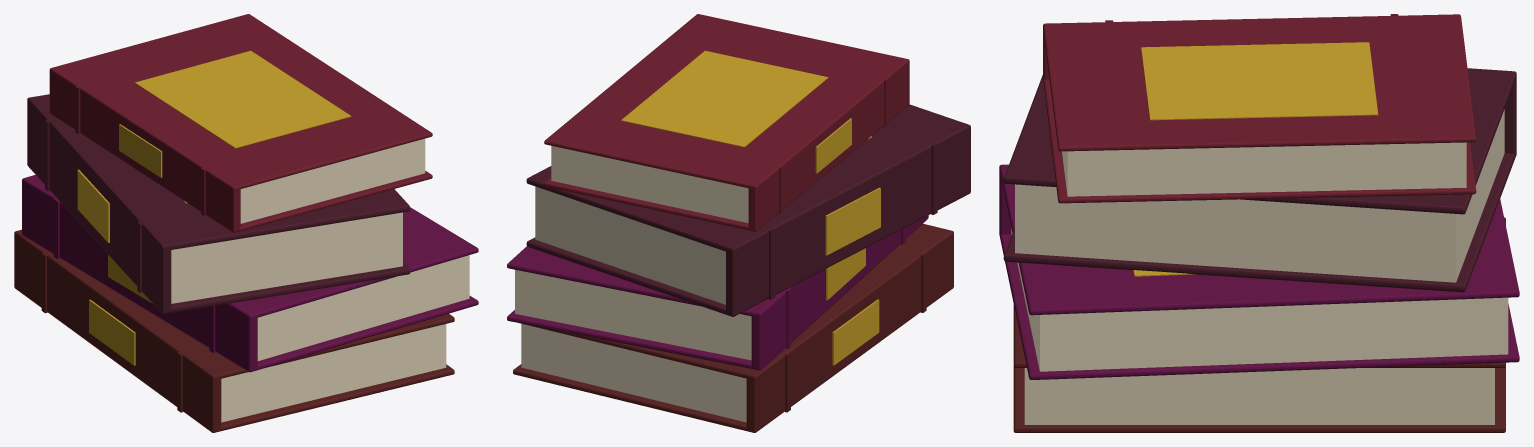
The model's file is Books1.fbx.
3 views of the same model, side by side, from view 1: azimuth 30°, elevation 25°; view 2: azimuth 150°, elevation 25°; view 3: azimuth 270°, elevation 25° (orthographic). The views are drawn at different scales.
Visible parts, largest first — view 1: BookTower; view 2: BookTower; view 3: BookTower.
Boxes of the visible parts, x1=… form: BookTower: x1=14, y1=14, x2=478, y2=432; BookTower: x1=507, y1=14, x2=970, y2=432; BookTower: x1=999, y1=14, x2=1519, y2=432.
Bounding box in the file's own units: 19.55 × 14.04 × 23.25.
